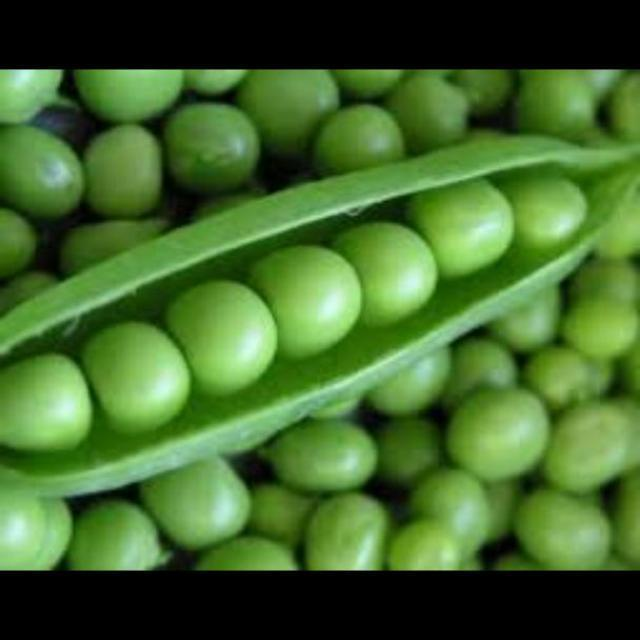peas: (0, 71, 629, 569)
